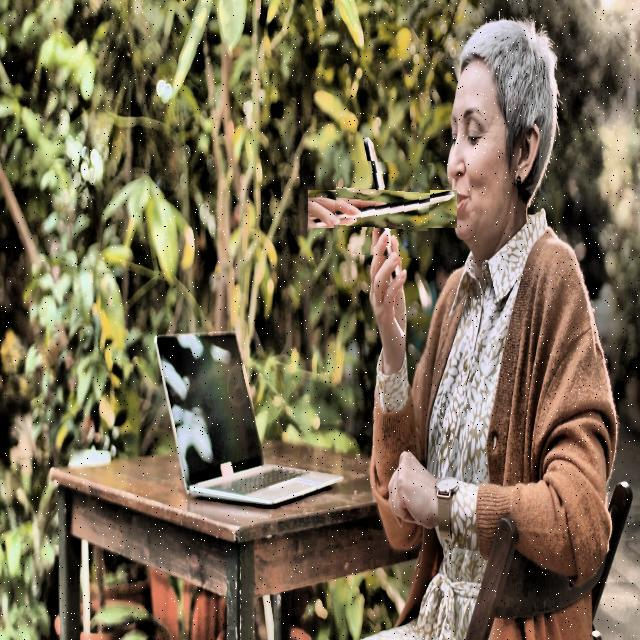Phone: (334, 160, 431, 258)
